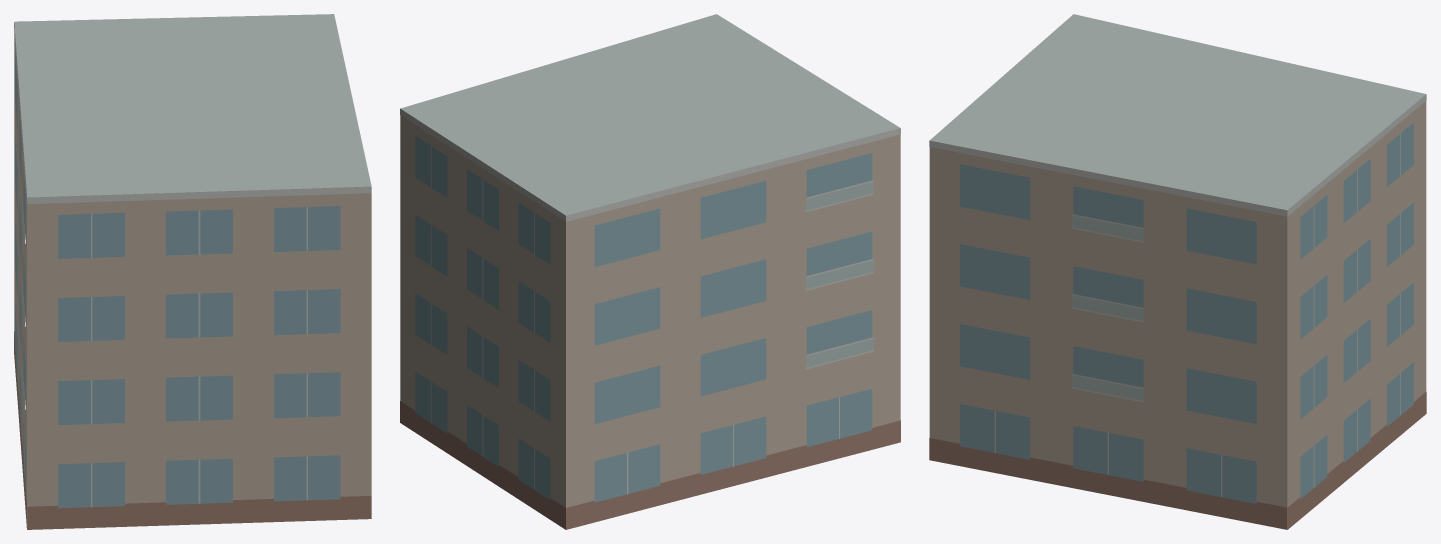
File: survey-upis-32476135.glb
3 views of the same model, side by side, from view 1: azimuth 30°, elevation 25°; view 2: azimuth 150°, elevation 25°; view 3: azimuth 270°, elevation 25° (orthographic). The views are drawn at different scales.
Visible parts, largest first — view 1: survey-upis-32476135.tmp; view 2: survey-upis-32476135.tmp; view 3: survey-upis-32476135.tmp.
Boxes of the visible parts, x1,y1,x2,y2 form: survey-upis-32476135.tmp: (14, 14, 371, 529); survey-upis-32476135.tmp: (400, 14, 900, 529); survey-upis-32476135.tmp: (929, 14, 1426, 529).
Size of the model in its own units: 16.08 by 12.2 by 17.2.
